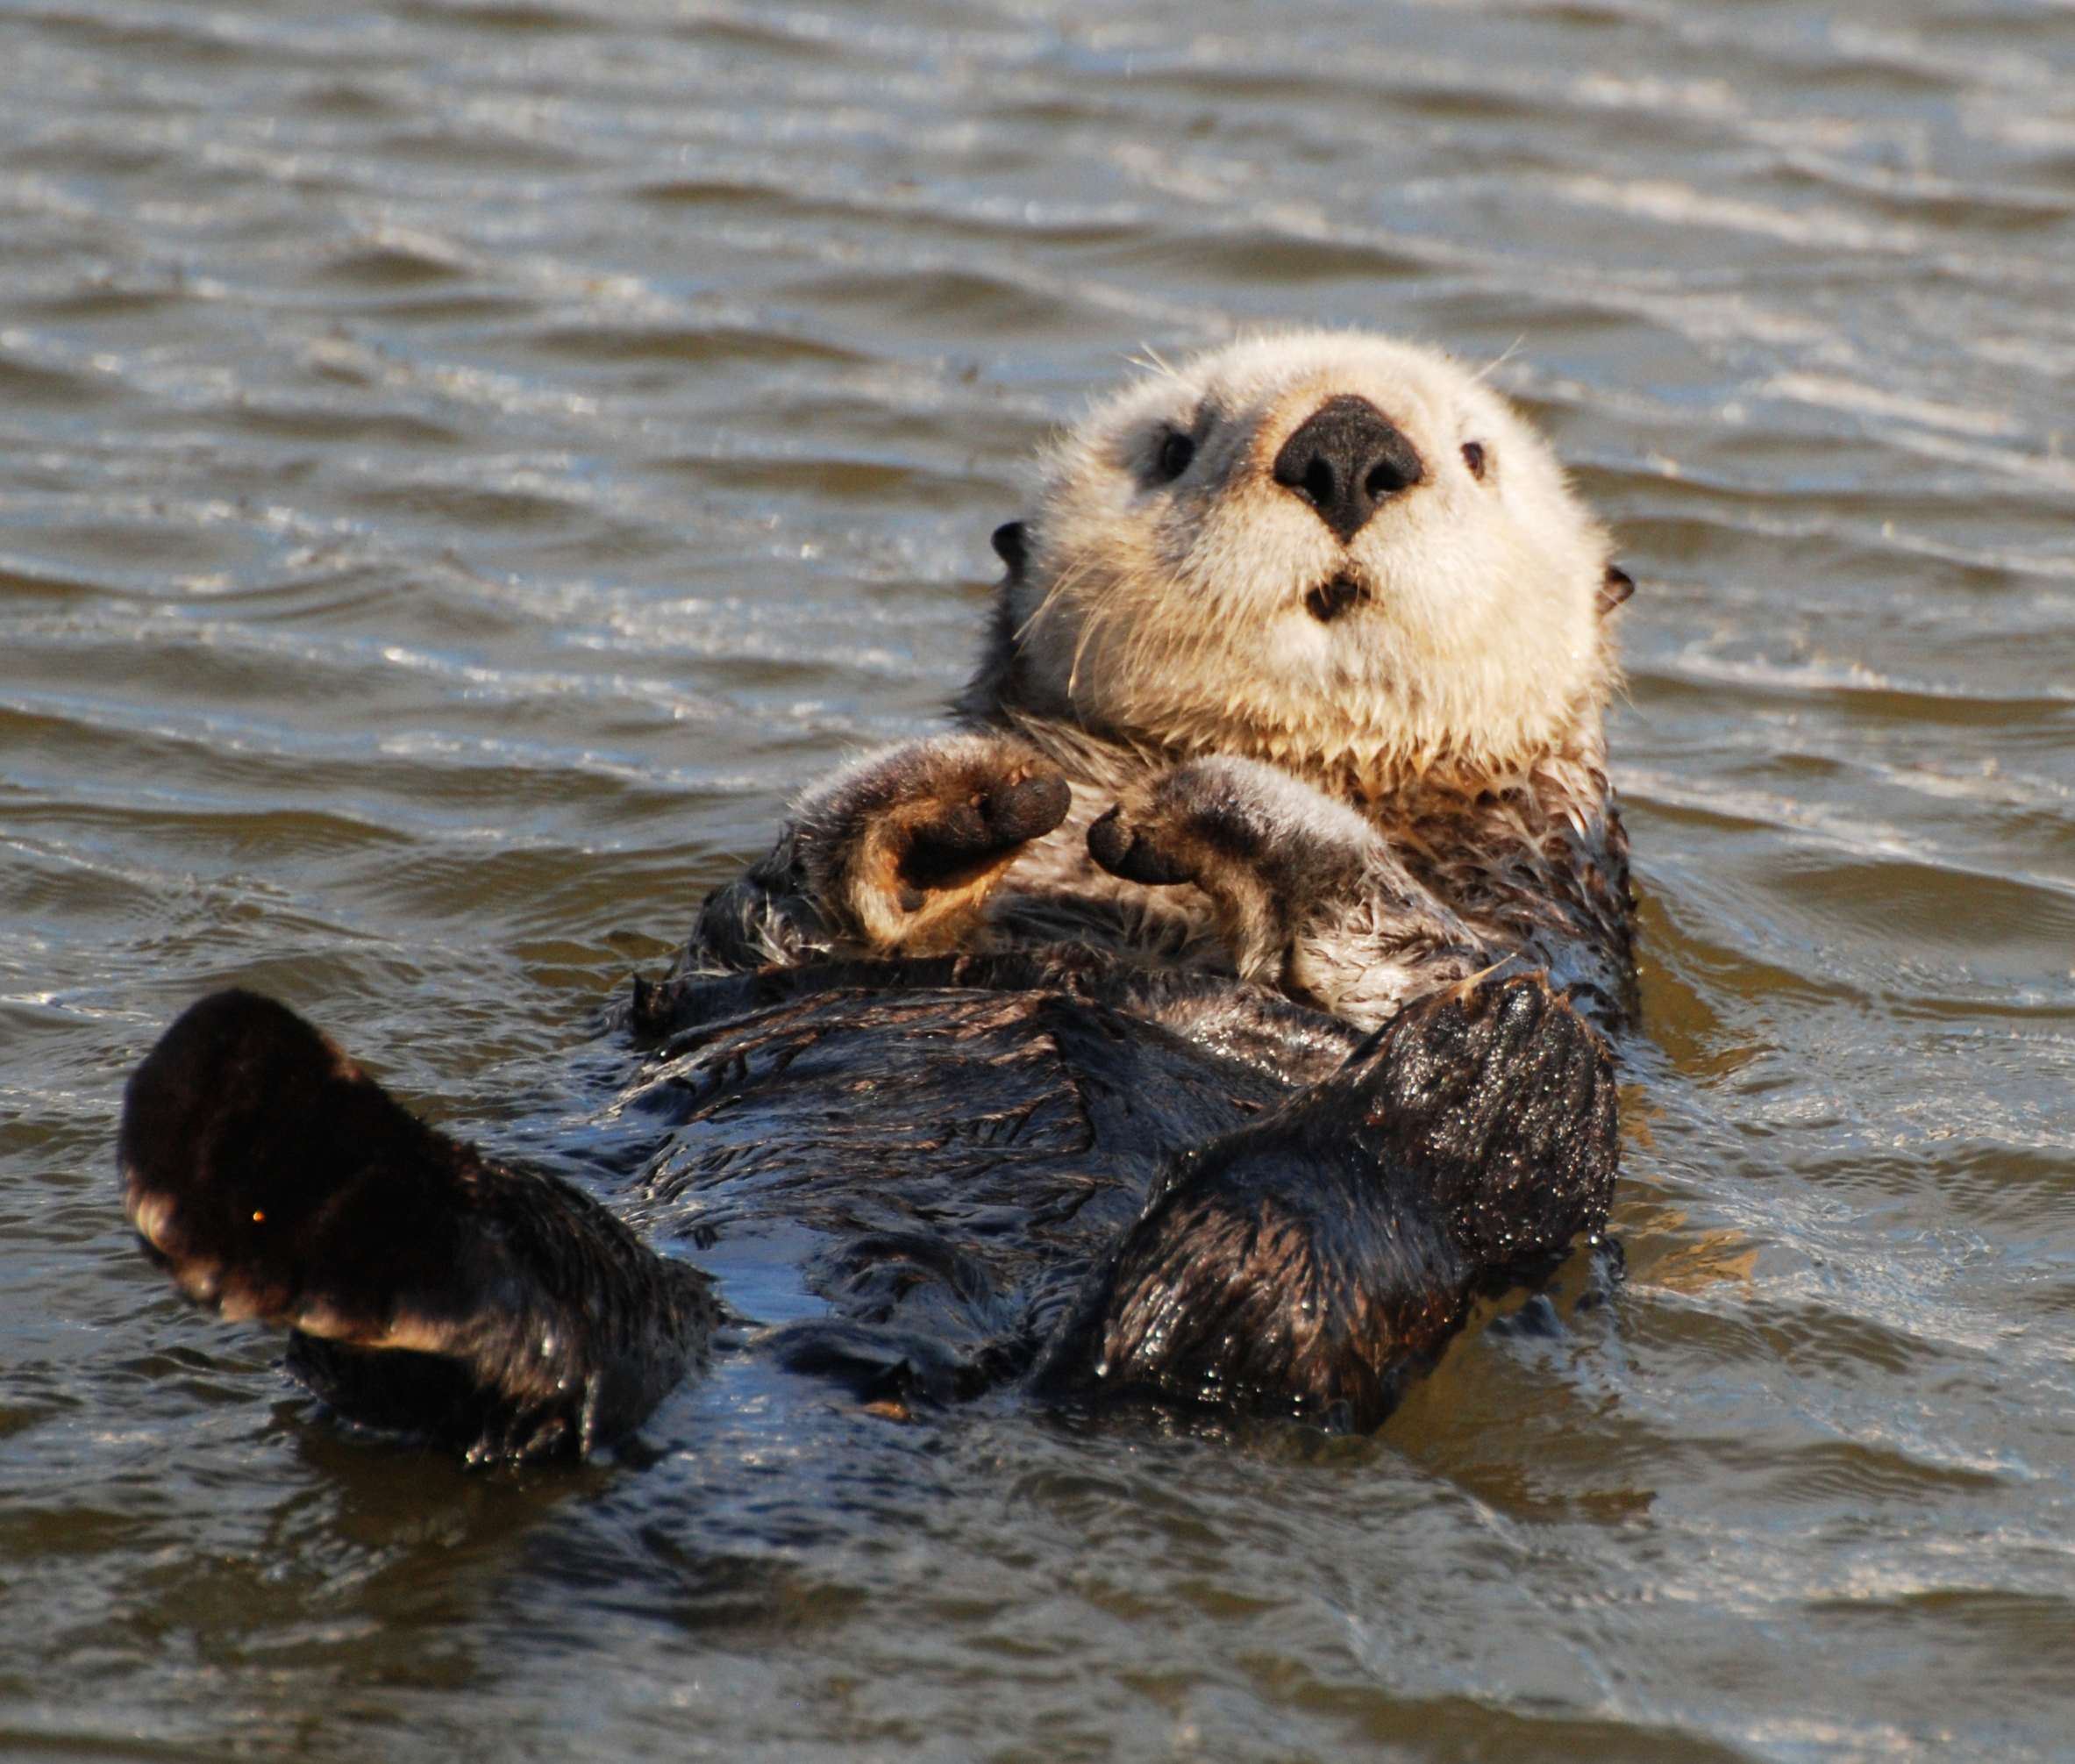otter: (312, 188, 1669, 1426)
